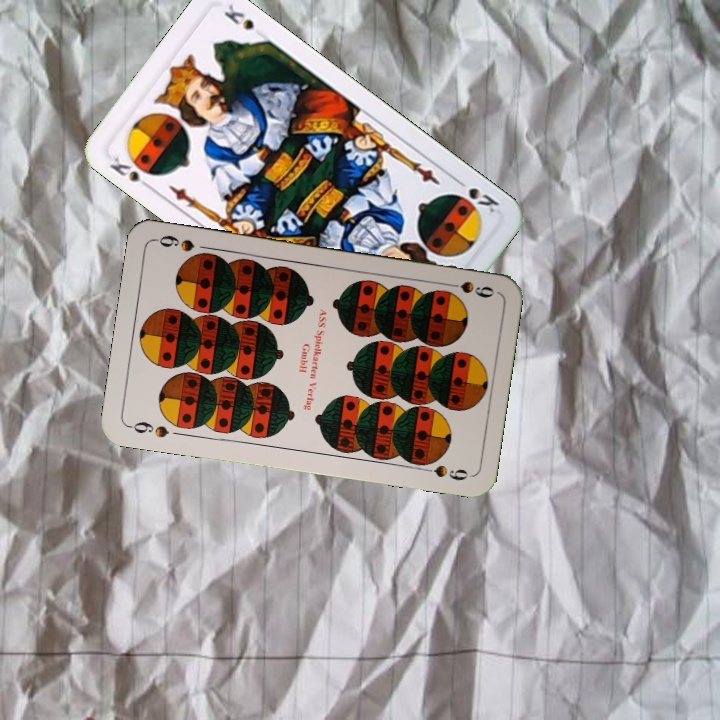S9: (439, 277, 497, 301), (124, 417, 172, 441)
SK: (105, 149, 159, 193), (450, 174, 502, 216)
